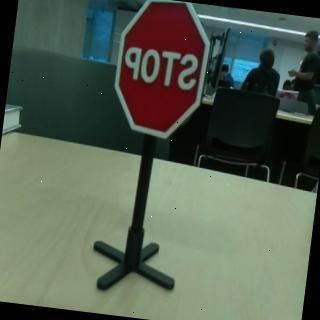sign_stop: (108, 1, 218, 144)
